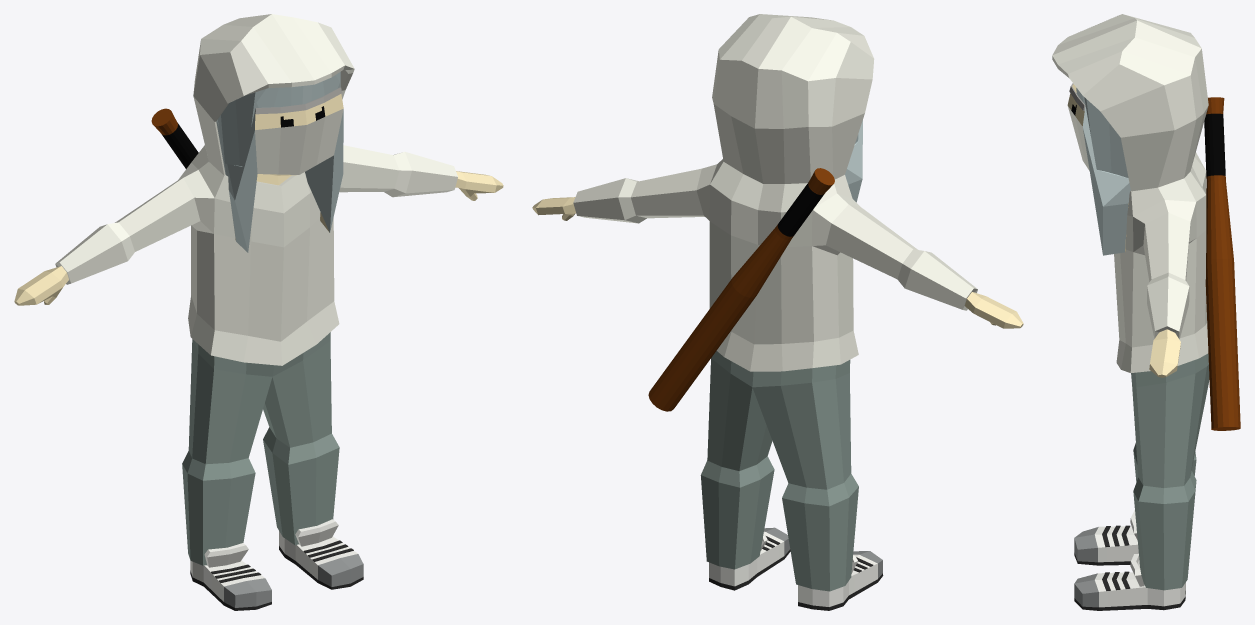
File: Character_Girl_White.fbx
3 renders of one model, left to right at view 1: azimuth 30°, elevation 25°; view 2: azimuth 150°, elevation 25°; view 3: azimuth 270°, elevation 25°, orthographic.
Visible parts, largest first — view 1: Cube.001, Cylinder; view 2: Cube.001, Cylinder; view 3: Cube.001, Cylinder.
Boxes of the visible parts, x1,y1,x2,y2 form: Cube.001: [14, 14, 503, 610]; Cylinder: [151, 108, 198, 168]; Cube.001: [532, 14, 1023, 610]; Cylinder: [648, 168, 834, 411]; Cube.001: [1052, 14, 1209, 610]; Cylinder: [1204, 97, 1240, 430].
Size of the model in its own units: 153 by 169 by 51.67.
